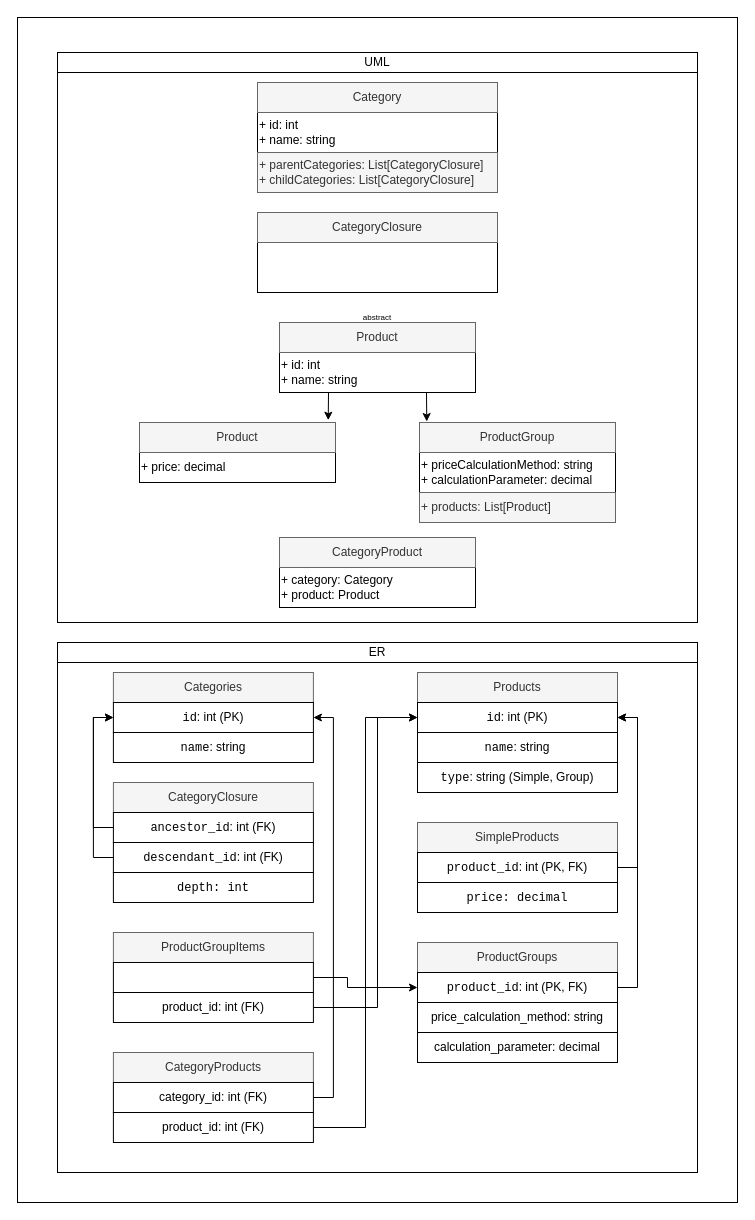
The diagram is 755 pixels wide and 1220 high, and some of its shapes have lost their labels. Here are the shapes that lost their labels. From the top down, the centre of each, then its label:
point (377, 267): + ancestor: Category + descendant: Category + depth: int
point (212, 977): group_id : int (FK)
